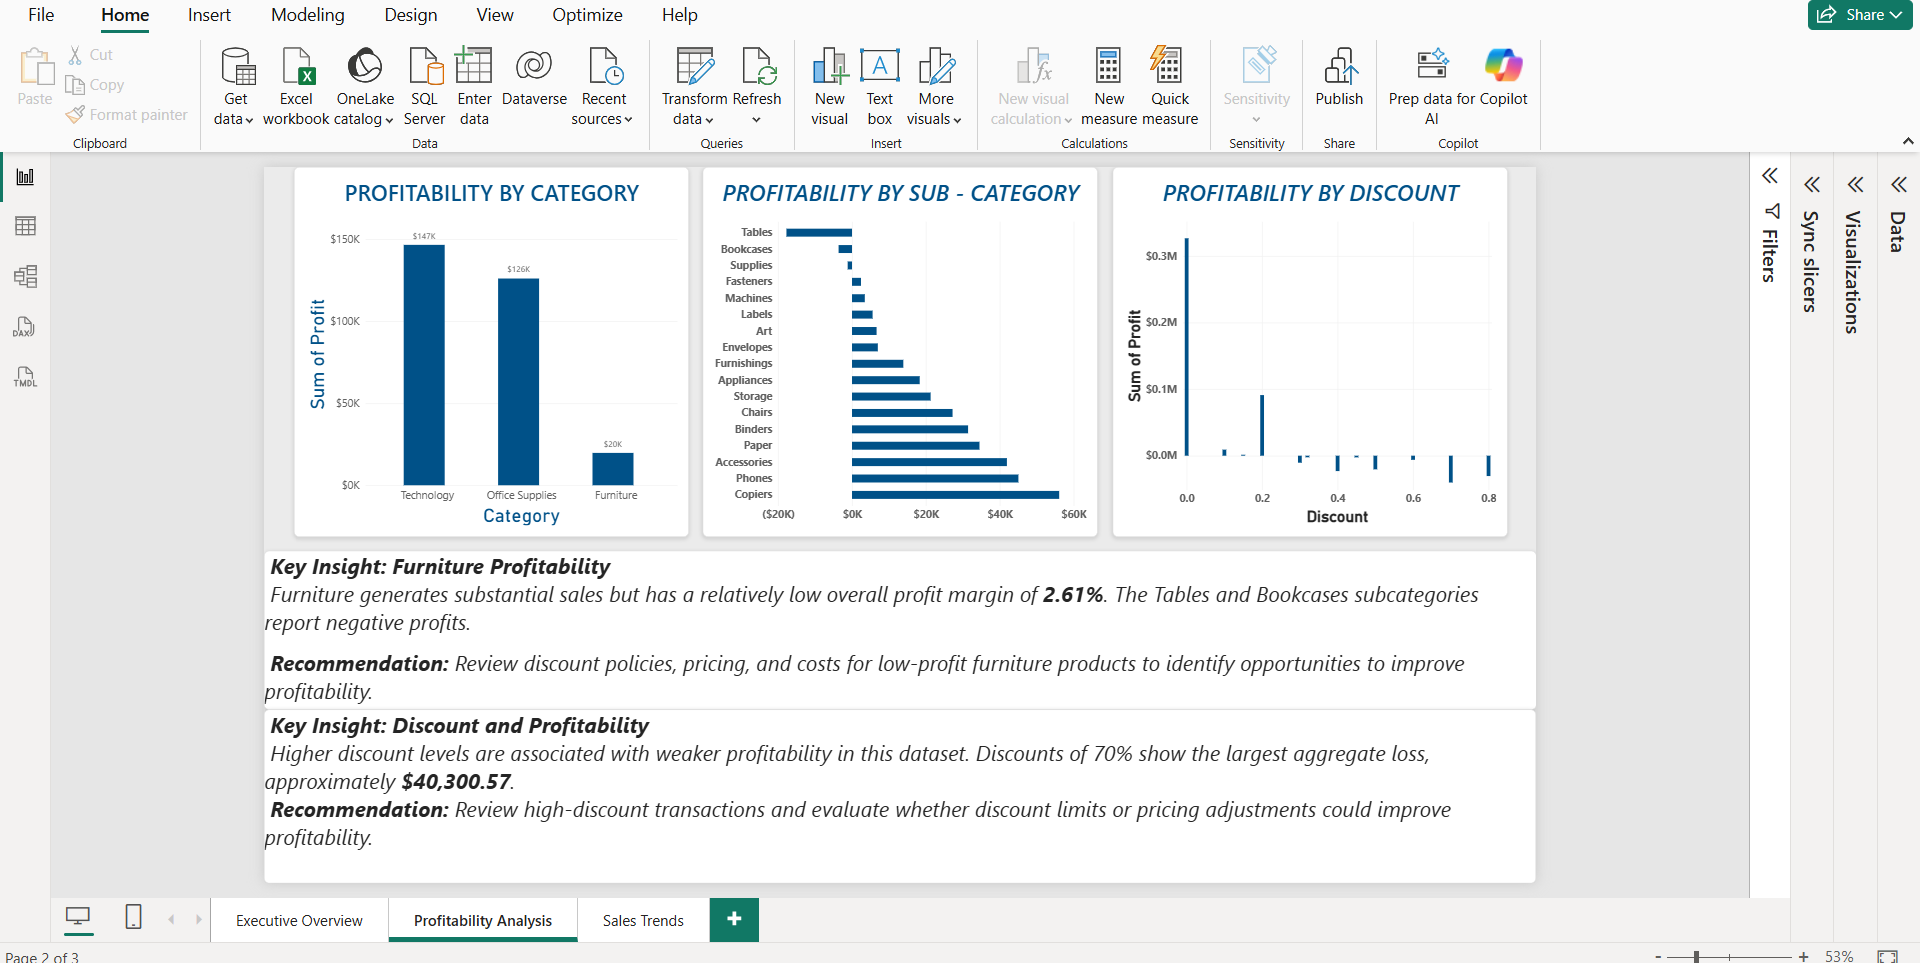

This screenshot's page, from the dashboard's own definition file:
{"tool":"powerbi","page":{"name":"Profitability Analysis","canvas":[1920,1080],"ordinal":1},"visuals":[{"type":"clusteredColumnChart","title":"PROFITABILITY BY CATEGORY","fields":{"Category":["cleaned_superstore.Category"],"Y":["Sum(cleaned_superstore.Profit)"]},"box":[0,0,596,558],"z":0},{"type":"clusteredBarChart","title":"PROFITABILITY BY SUB - CATEGORY","fields":{"Category":["cleaned_superstore.Sub-Category"],"Y":["Sum(cleaned_superstore.Profit)"]},"box":[626,0,596,558],"z":1},{"type":"clusteredColumnChart","title":"PROFITABILITY BY DISCOUNT","fields":{"Category":["cleaned_superstore.Discount"],"Y":["Sum(cleaned_superstore.Profit)"]},"box":[1246,0,596,558],"z":2},{"type":"textbox","box":[0,580,1876,238],"z":3},{"type":"textbox","box":[0,818,1920,262],"z":4}]}

Visuals, with their boxes on the page's 1920x1080 design canvas (x1, y1, x2, y2). These are canvas units, not pixel positions in the 1920x963 screenshot, which may show the page scaled, cropped or inside an application window:
"PROFITABILITY BY CATEGORY" clusteredColumnChart: [left=0, top=0, right=596, bottom=558]
"PROFITABILITY BY SUB - CATEGORY" clusteredBarChart: [left=626, top=0, right=1222, bottom=558]
"PROFITABILITY BY DISCOUNT" clusteredColumnChart: [left=1246, top=0, right=1842, bottom=558]
textbox: [left=0, top=580, right=1876, bottom=818]
textbox: [left=0, top=818, right=1920, bottom=1080]
